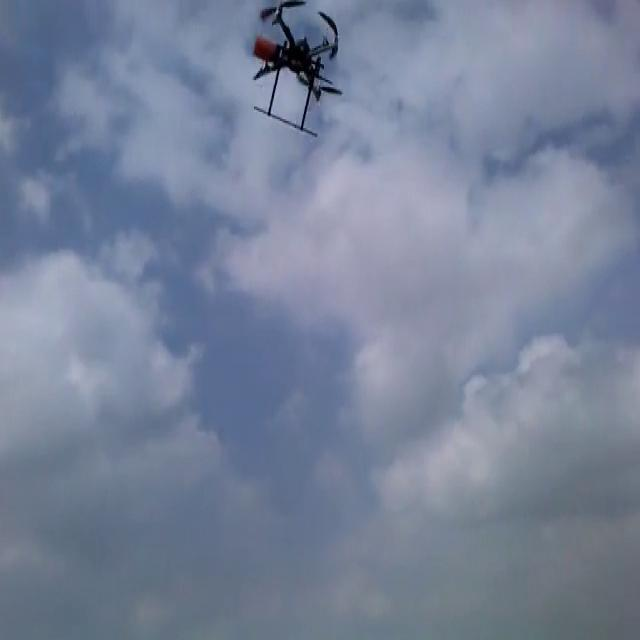drone: (245, 0, 345, 138)
